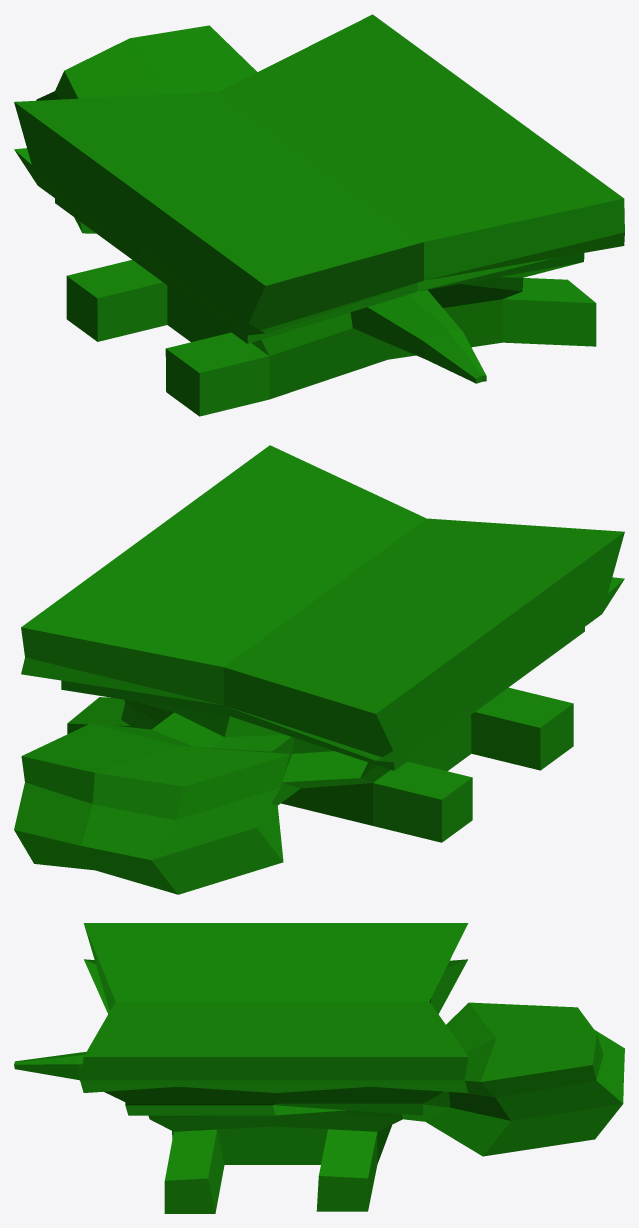
File: tortle.glb
The picture shows the model from 3 angles, top to bottom: view 1: azimuth 30°, elevation 25°; view 2: azimuth 150°, elevation 25°; view 3: azimuth 270°, elevation 25°; orthographic projection. The views are drawn at different scales.
Visible parts, largest first — view 1: Cube; view 2: Cube; view 3: Cube.
Part boxes in pixels (left/top/right/bottom): Cube: left=14, top=14, right=624, bottom=416; Cube: left=14, top=445, right=624, bottom=894; Cube: left=14, top=923, right=624, bottom=1213.
Size of the model in its own units: 21.15 by 9.98 by 37.45.
